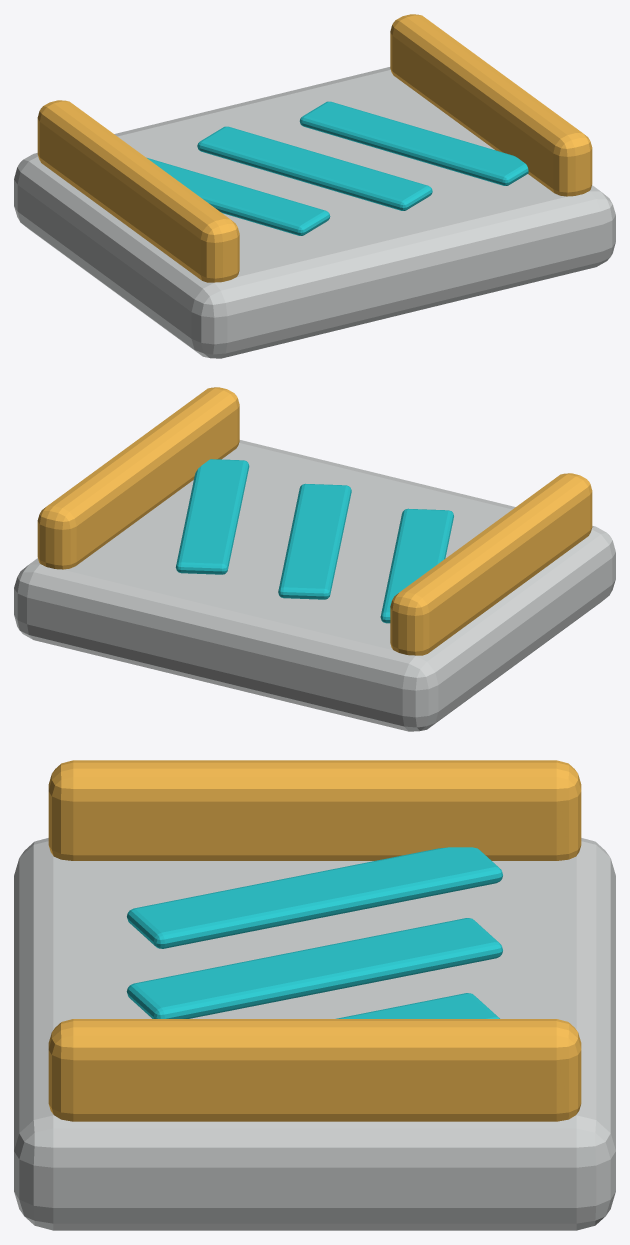
Rendered from DynamicBridge.fbx.
3 views of the same model, one above another, from view 1: azimuth 30°, elevation 25°; view 2: azimuth 150°, elevation 25°; view 3: azimuth 270°, elevation 25° (orthographic). The views are drawn at different scales.
Visible parts, largest first — view 1: MAT_Steel Geometry.014, MAT_Ochre Geometry.005, MAT_Teal Geometry.012; view 2: MAT_Steel Geometry.014, MAT_Ochre Geometry.005, MAT_Teal Geometry.012; view 3: MAT_Steel Geometry.014, MAT_Ochre Geometry.005, MAT_Teal Geometry.012.
Boxes of the visible parts, bbox=[...] form: MAT_Steel Geometry.014: bbox=[14, 67, 615, 358]; MAT_Ochre Geometry.005: bbox=[37, 14, 592, 282]; MAT_Teal Geometry.012: bbox=[146, 101, 528, 235]; MAT_Steel Geometry.014: bbox=[14, 440, 615, 731]; MAT_Ochre Geometry.005: bbox=[37, 387, 592, 655]; MAT_Teal Geometry.012: bbox=[175, 459, 453, 623]; MAT_Steel Geometry.014: bbox=[14, 838, 615, 1230]; MAT_Ochre Geometry.005: bbox=[48, 760, 581, 1121]; MAT_Teal Geometry.012: bbox=[126, 847, 502, 1018].
Bounding box in the file's own units: 148 × 43.5 × 122.
